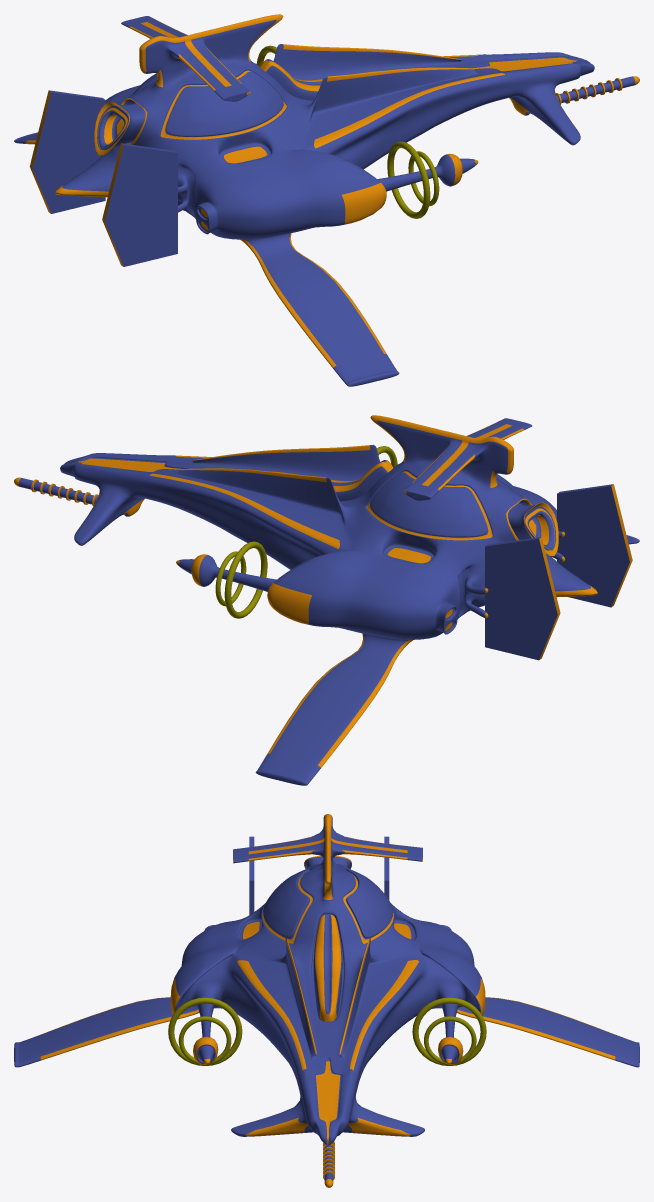
The model's file is textures et vaisseau - vaisseau V2.fbx.
3 views of the same model, one above another, from view 1: azimuth 30°, elevation 25°; view 2: azimuth 150°, elevation 25°; view 3: azimuth 270°, elevation 25° (orthographic). The views are drawn at different scales.
Visible parts, largest first — view 1: pSphere2, pCube3, pTorus3, pSphere3, pTorus5; view 2: pSphere2, pCube3, pTorus2, pSphere3, pTorus4; view 3: pSphere2, pTorus2, pTorus3, pTorus5, pTorus4, pCube3.
Part boxes in pixels (x1=…): pSphere2: x1=14, y1=14, x2=594, y2=386; pCube3: x1=29, y1=90, x2=177, y2=266; pTorus3: x1=387, y1=141, x2=430, y2=218; pSphere3: x1=555, y1=76, x2=639, y2=104; pTorus5: x1=408, y1=151, x2=439, y2=206; pSphere2: x1=60, y1=415, x2=639, y2=785; pCube3: x1=485, y1=484, x2=632, y2=660; pTorus2: x1=224, y1=541, x2=267, y2=618; pSphere3: x1=14, y1=477, x2=98, y2=506; pTorus4: x1=215, y1=551, x2=246, y2=606; pSphere2: x1=14, y1=814, x2=639, y2=1145; pTorus2: x1=412, y1=997, x2=486, y2=1065; pTorus3: x1=168, y1=997, x2=242, y2=1065; pTorus5: x1=178, y1=1016, x2=231, y2=1064; pTorus4: x1=424, y1=1016, x2=476, y2=1064; pCube3: x1=249, y1=836, x2=389, y2=914.
Size of the model in its own units: 7.53 by 2.89 by 7.48.
